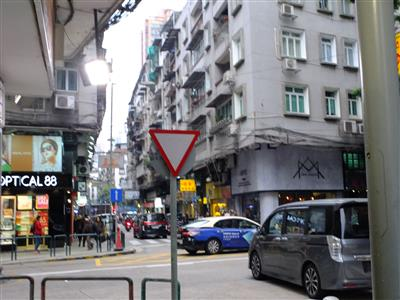oneway: (108, 184, 122, 204)
yield: (146, 126, 202, 177)
